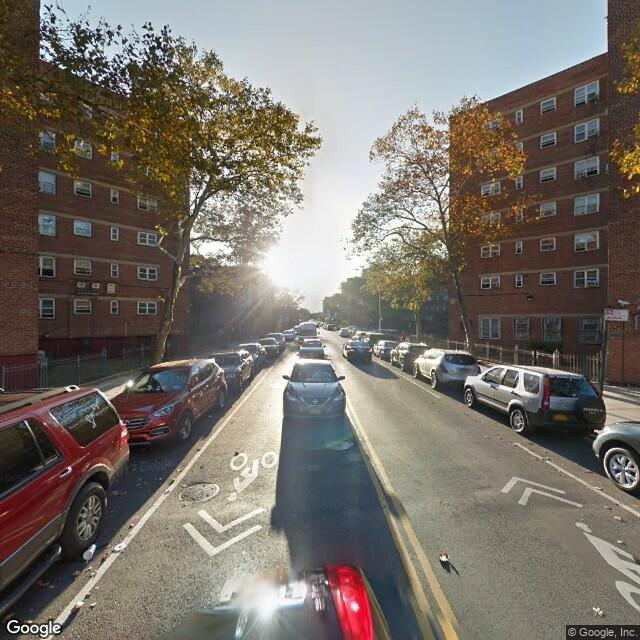litter: (83, 544, 99, 563), (113, 542, 126, 552)
